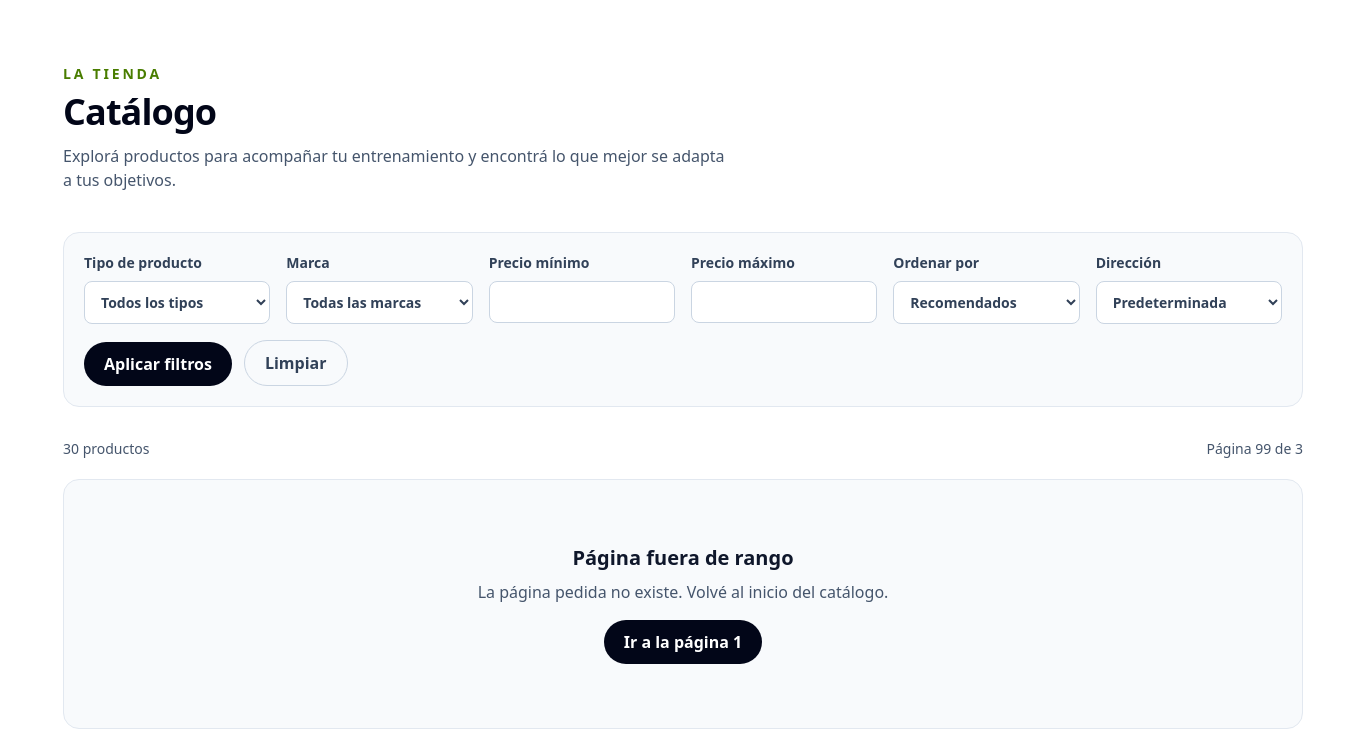
Test case: catálogo de productos › fuera de rango: ofrece volver a la página 1 sin esconder la paginación
Expected: the heading "Página fuera de rango" is shown, x1=572 y1=544 x2=794 y2=571
Click the button "Ir a la página 1" at (683, 642), box x1=604 y1=620 x2=762 y2=664
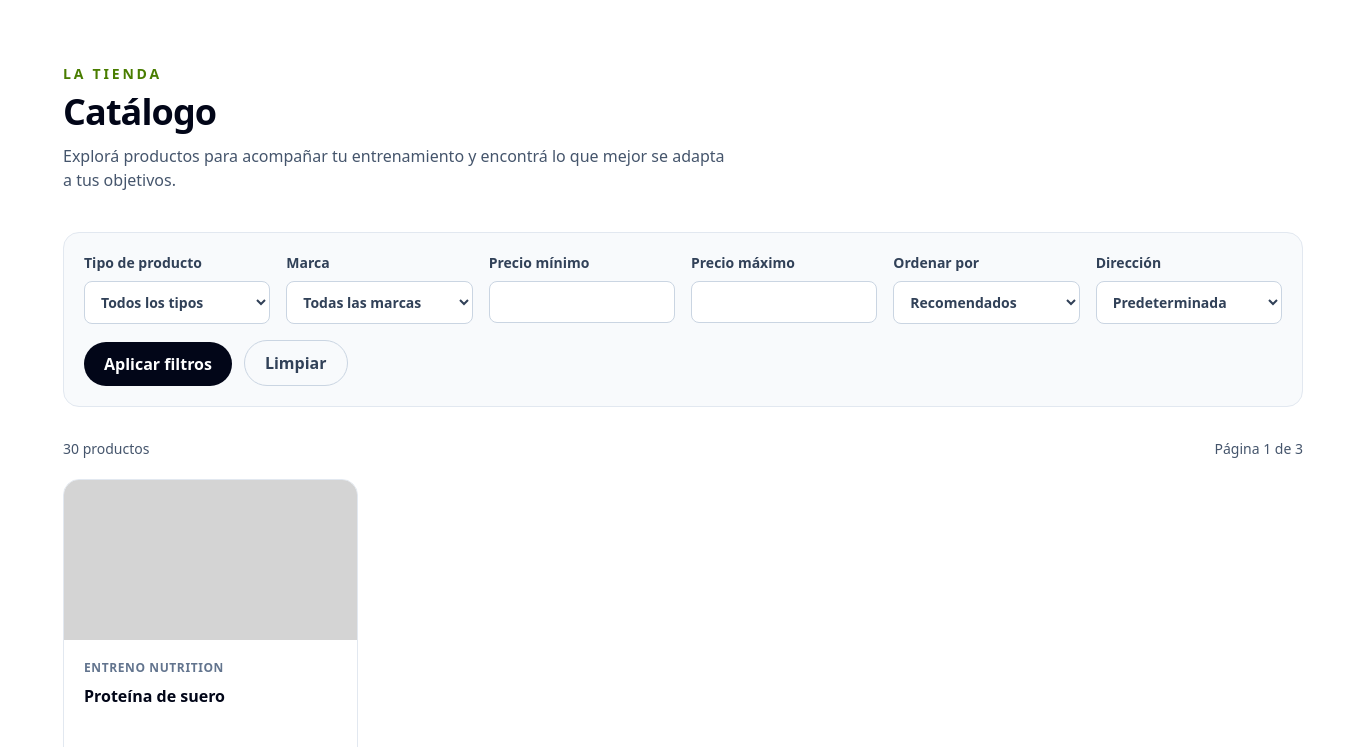
Result: the heading "Proteína de suero" is shown at x1=84 y1=685 x2=225 y2=707
